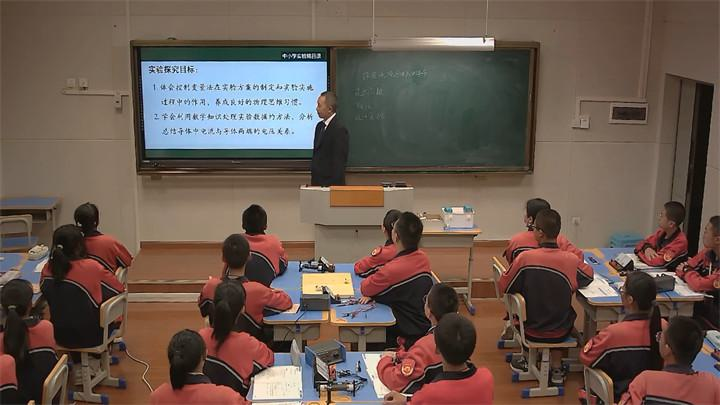listen: (528, 212, 578, 317), (656, 312, 704, 397), (3, 276, 48, 363), (647, 190, 689, 267), (74, 193, 120, 260), (692, 203, 720, 306)
